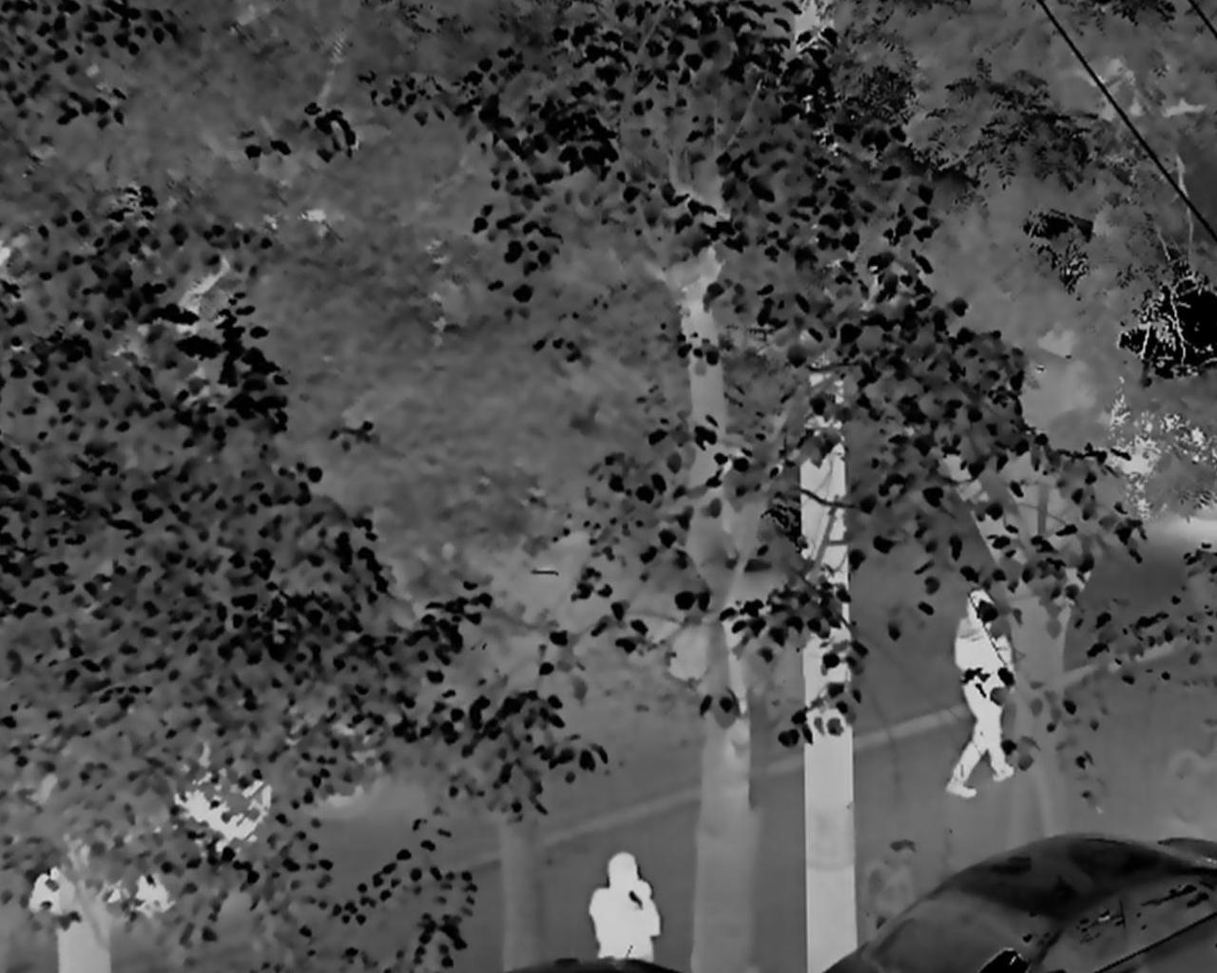person: (947, 582, 1015, 801), (592, 849, 662, 973)
